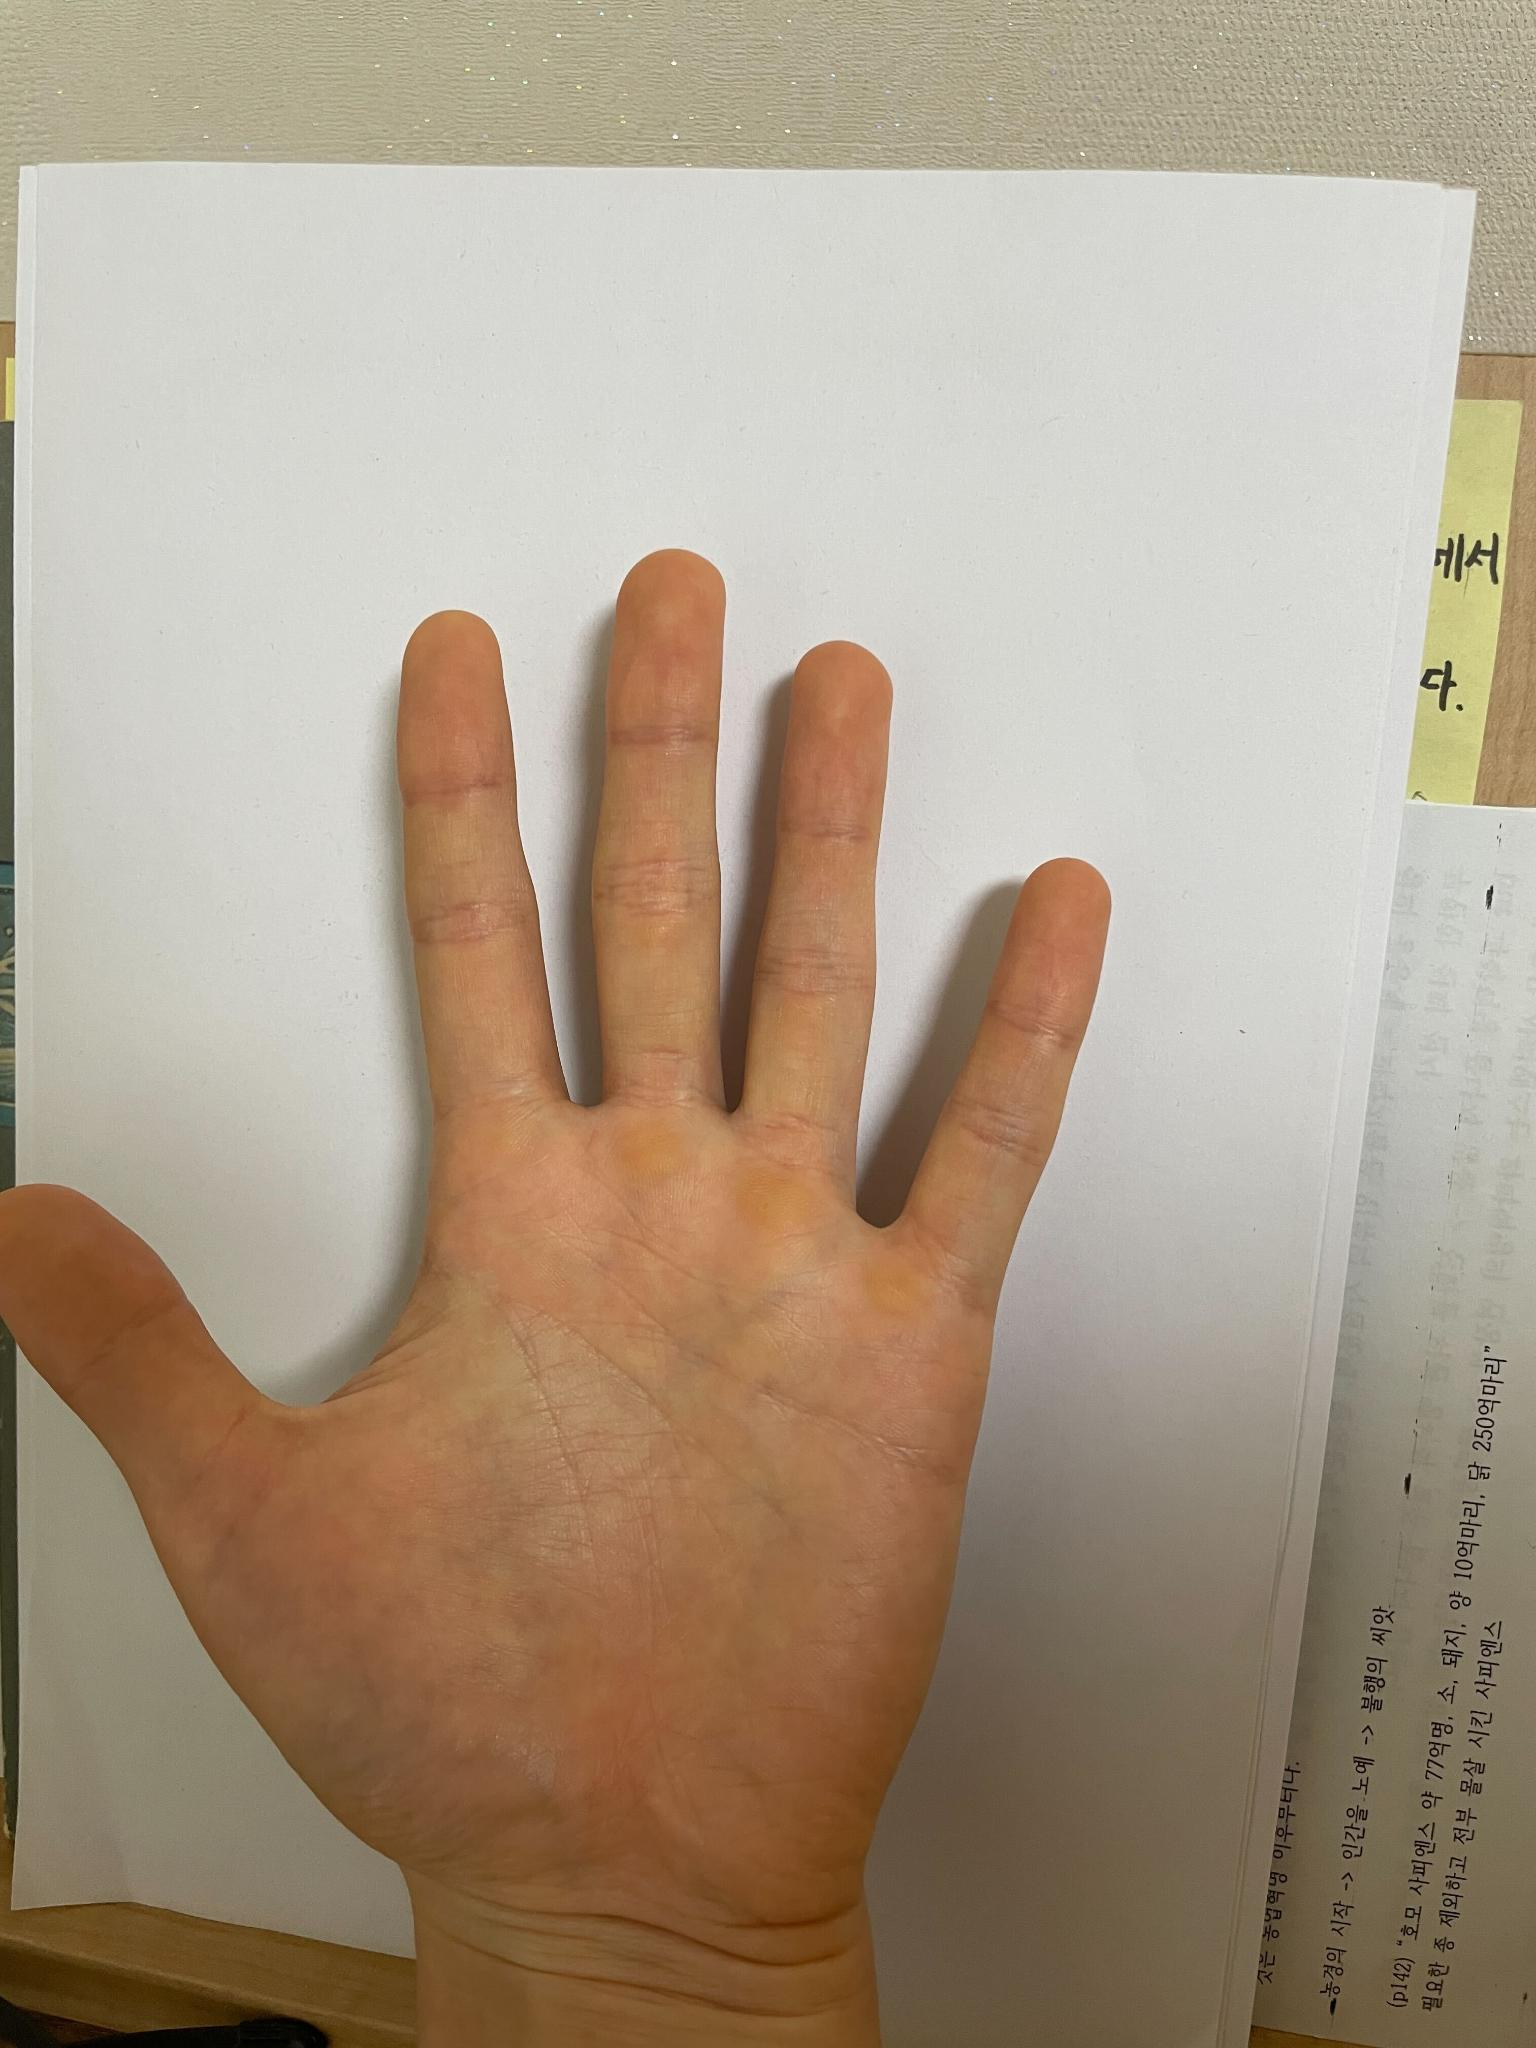open: (5, 540, 1112, 1992)
